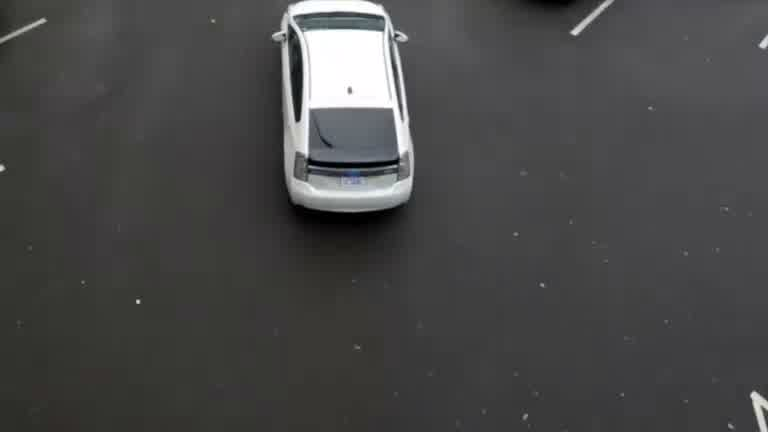car: (263, 2, 454, 219)
